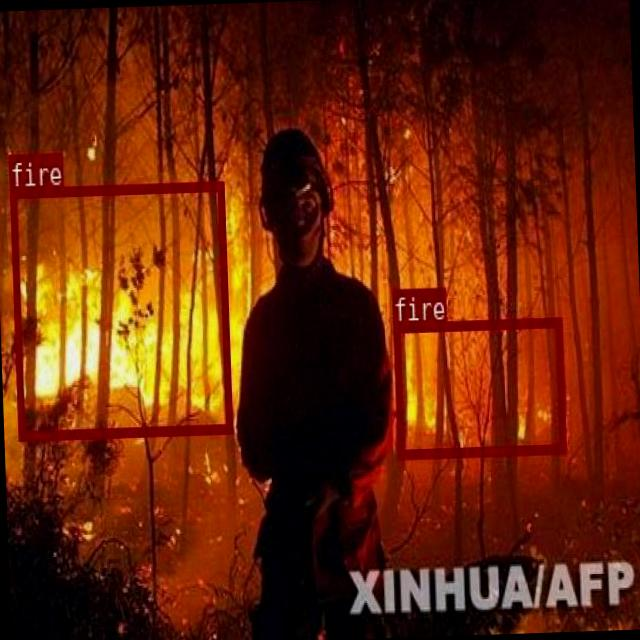fire: (8, 180, 230, 439), (391, 314, 565, 456)
